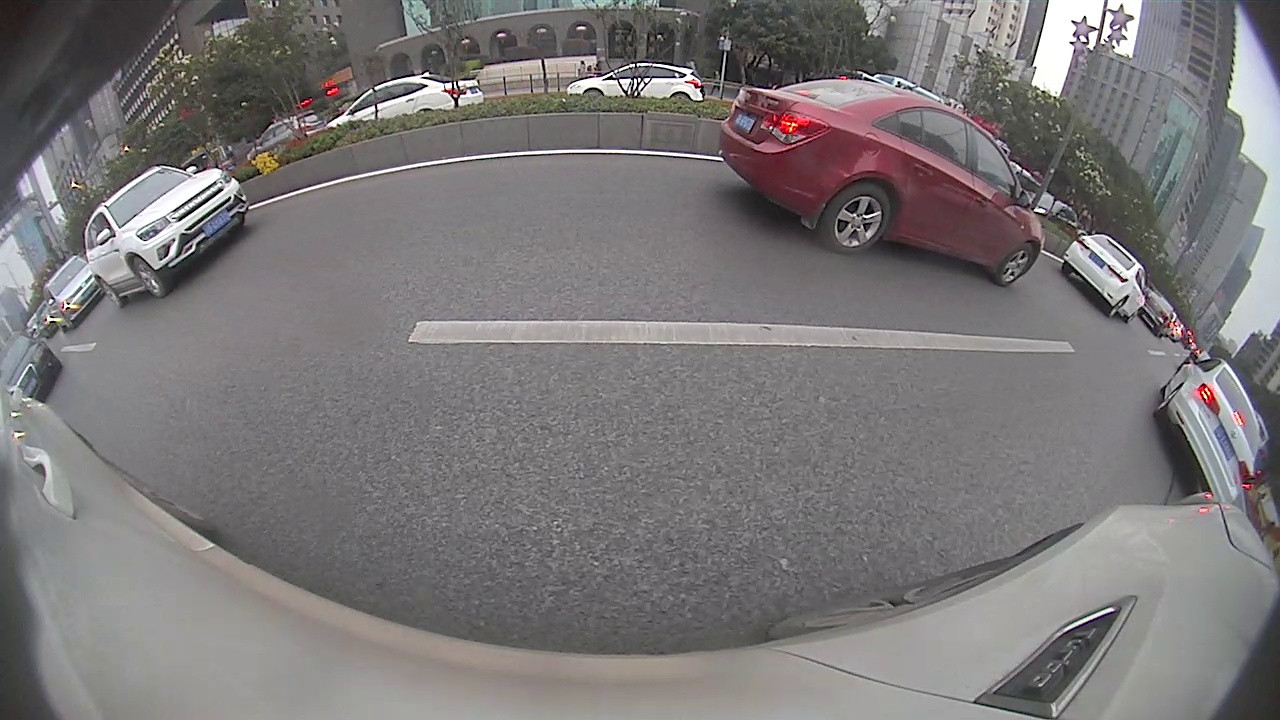bus: (665, 109, 772, 194)
car: (948, 184, 1157, 304), (1137, 268, 1247, 369), (818, 165, 921, 218), (1224, 329, 1279, 390), (765, 161, 823, 199)
front: (956, 220, 986, 248), (821, 185, 833, 204)
rear: (1059, 257, 1092, 300), (1202, 337, 1225, 370), (858, 191, 876, 212), (926, 204, 937, 220)
